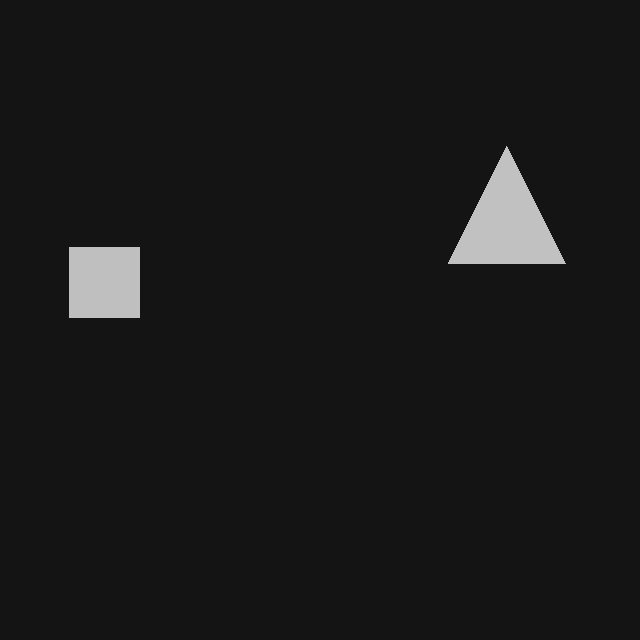square: (69, 247, 139, 317)
triangle: (448, 146, 565, 263)
